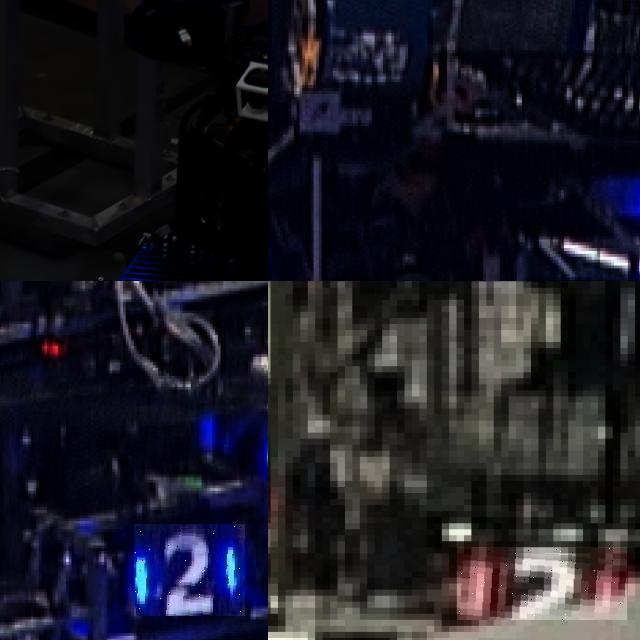B2: (134, 524, 245, 616)
R2: (457, 547, 627, 620)
